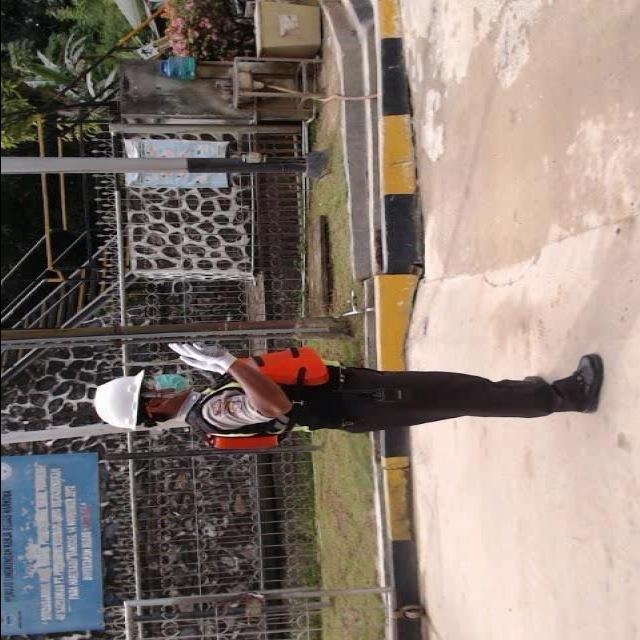helmet: (90, 367, 145, 433)
